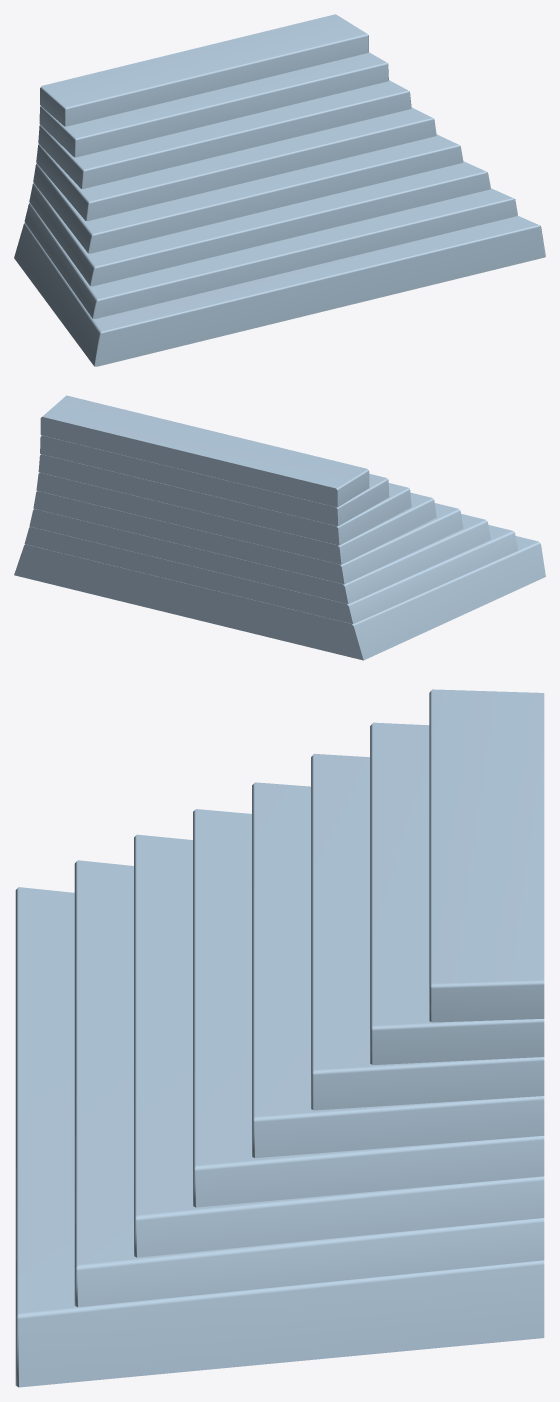
The model's file is Isl_10_Stairs.fbx.
3 views of the same model, one above another, from view 1: azimuth 30°, elevation 25°; view 2: azimuth 150°, elevation 25°; view 3: azimuth 270°, elevation 25° (orthographic). The views are drawn at different scales.
Visible parts, largest first — view 1: Isl_10_Stairs; view 2: Isl_10_Stairs; view 3: Isl_10_Stairs.
Boxes of the visible parts, x1=… form: Isl_10_Stairs: x1=14, y1=14, x2=545, y2=366; Isl_10_Stairs: x1=14, y1=395, x2=545, y2=660; Isl_10_Stairs: x1=15, y1=689, x2=544, y2=1387.
Size of the model in its own units: 1130 by 573 by 395.
1 material, 1 textured.
